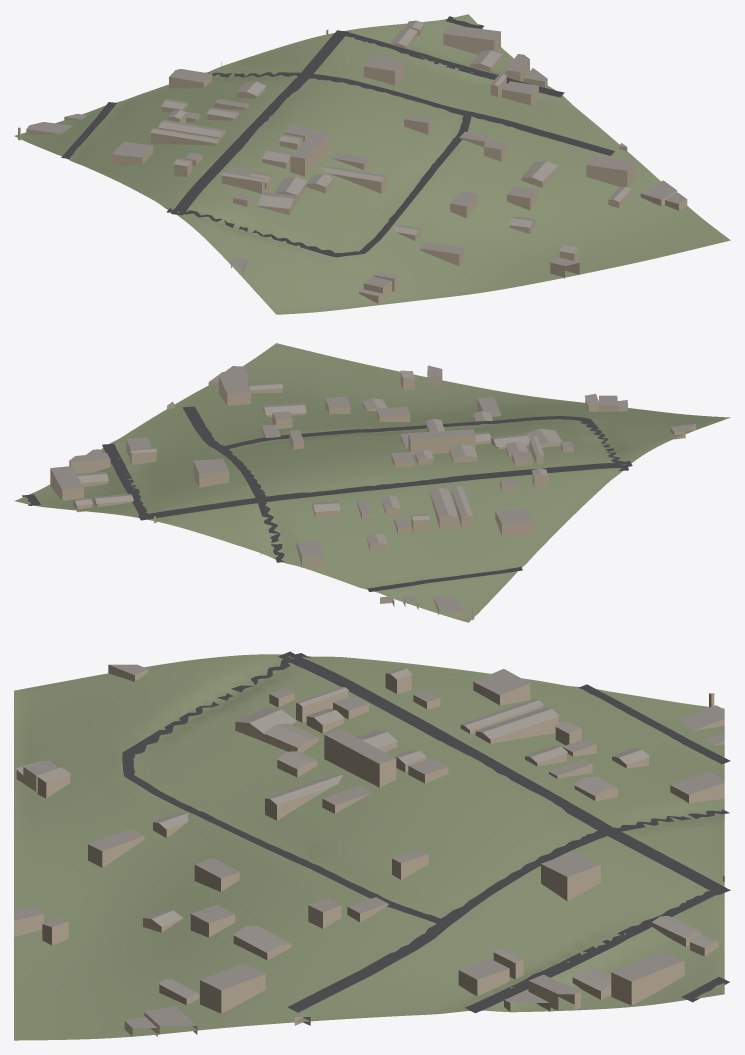
3 renders of one model, top to bottom at view 1: azimuth 30°, elevation 25°; view 2: azimuth 150°, elevation 25°; view 3: azimuth 270°, elevation 25°, orthographic. The views are drawn at different scales.
Visible parts, largest first — view 1: ground, walls, road, roofs, sheetRoofs; view 2: ground, walls, road, roofs, sheetRoofs; view 3: ground, walls, road, roofs, sheetRoofs.
Boxes of the visible parts, box(x1,y1,x2,y2) form: ground: box(14, 14, 730, 314); walls: box(18, 25, 687, 303); road: box(61, 16, 614, 257); roofs: box(18, 25, 686, 287); sheetRoofs: box(150, 20, 631, 296); ground: box(14, 343, 730, 622); walls: box(50, 367, 695, 620); road: box(22, 406, 632, 591); roofs: box(50, 365, 695, 612); sheetRoofs: box(73, 370, 628, 545); ground: box(14, 654, 724, 1040); walls: box(14, 664, 724, 1036); road: box(122, 651, 730, 1013); roofs: box(14, 664, 724, 1027); sheetRoofs: box(16, 667, 719, 998).
Bounding box in the file's own units: 255 × 39.24 × 252.
